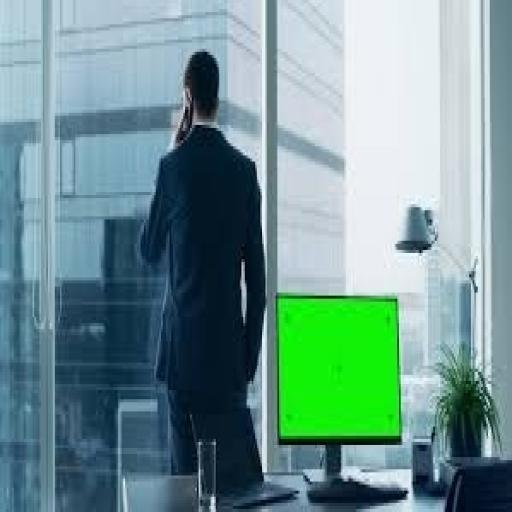calling: (137, 46, 269, 494)
